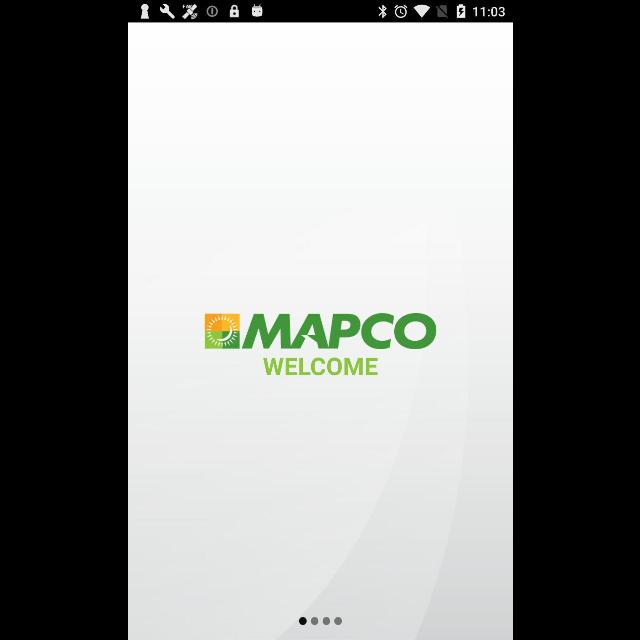image: (202, 312, 436, 350)
pageindicator: (298, 616, 342, 626)
text: (262, 358, 378, 376)
uppertaskbar: (128, 1, 512, 23)
